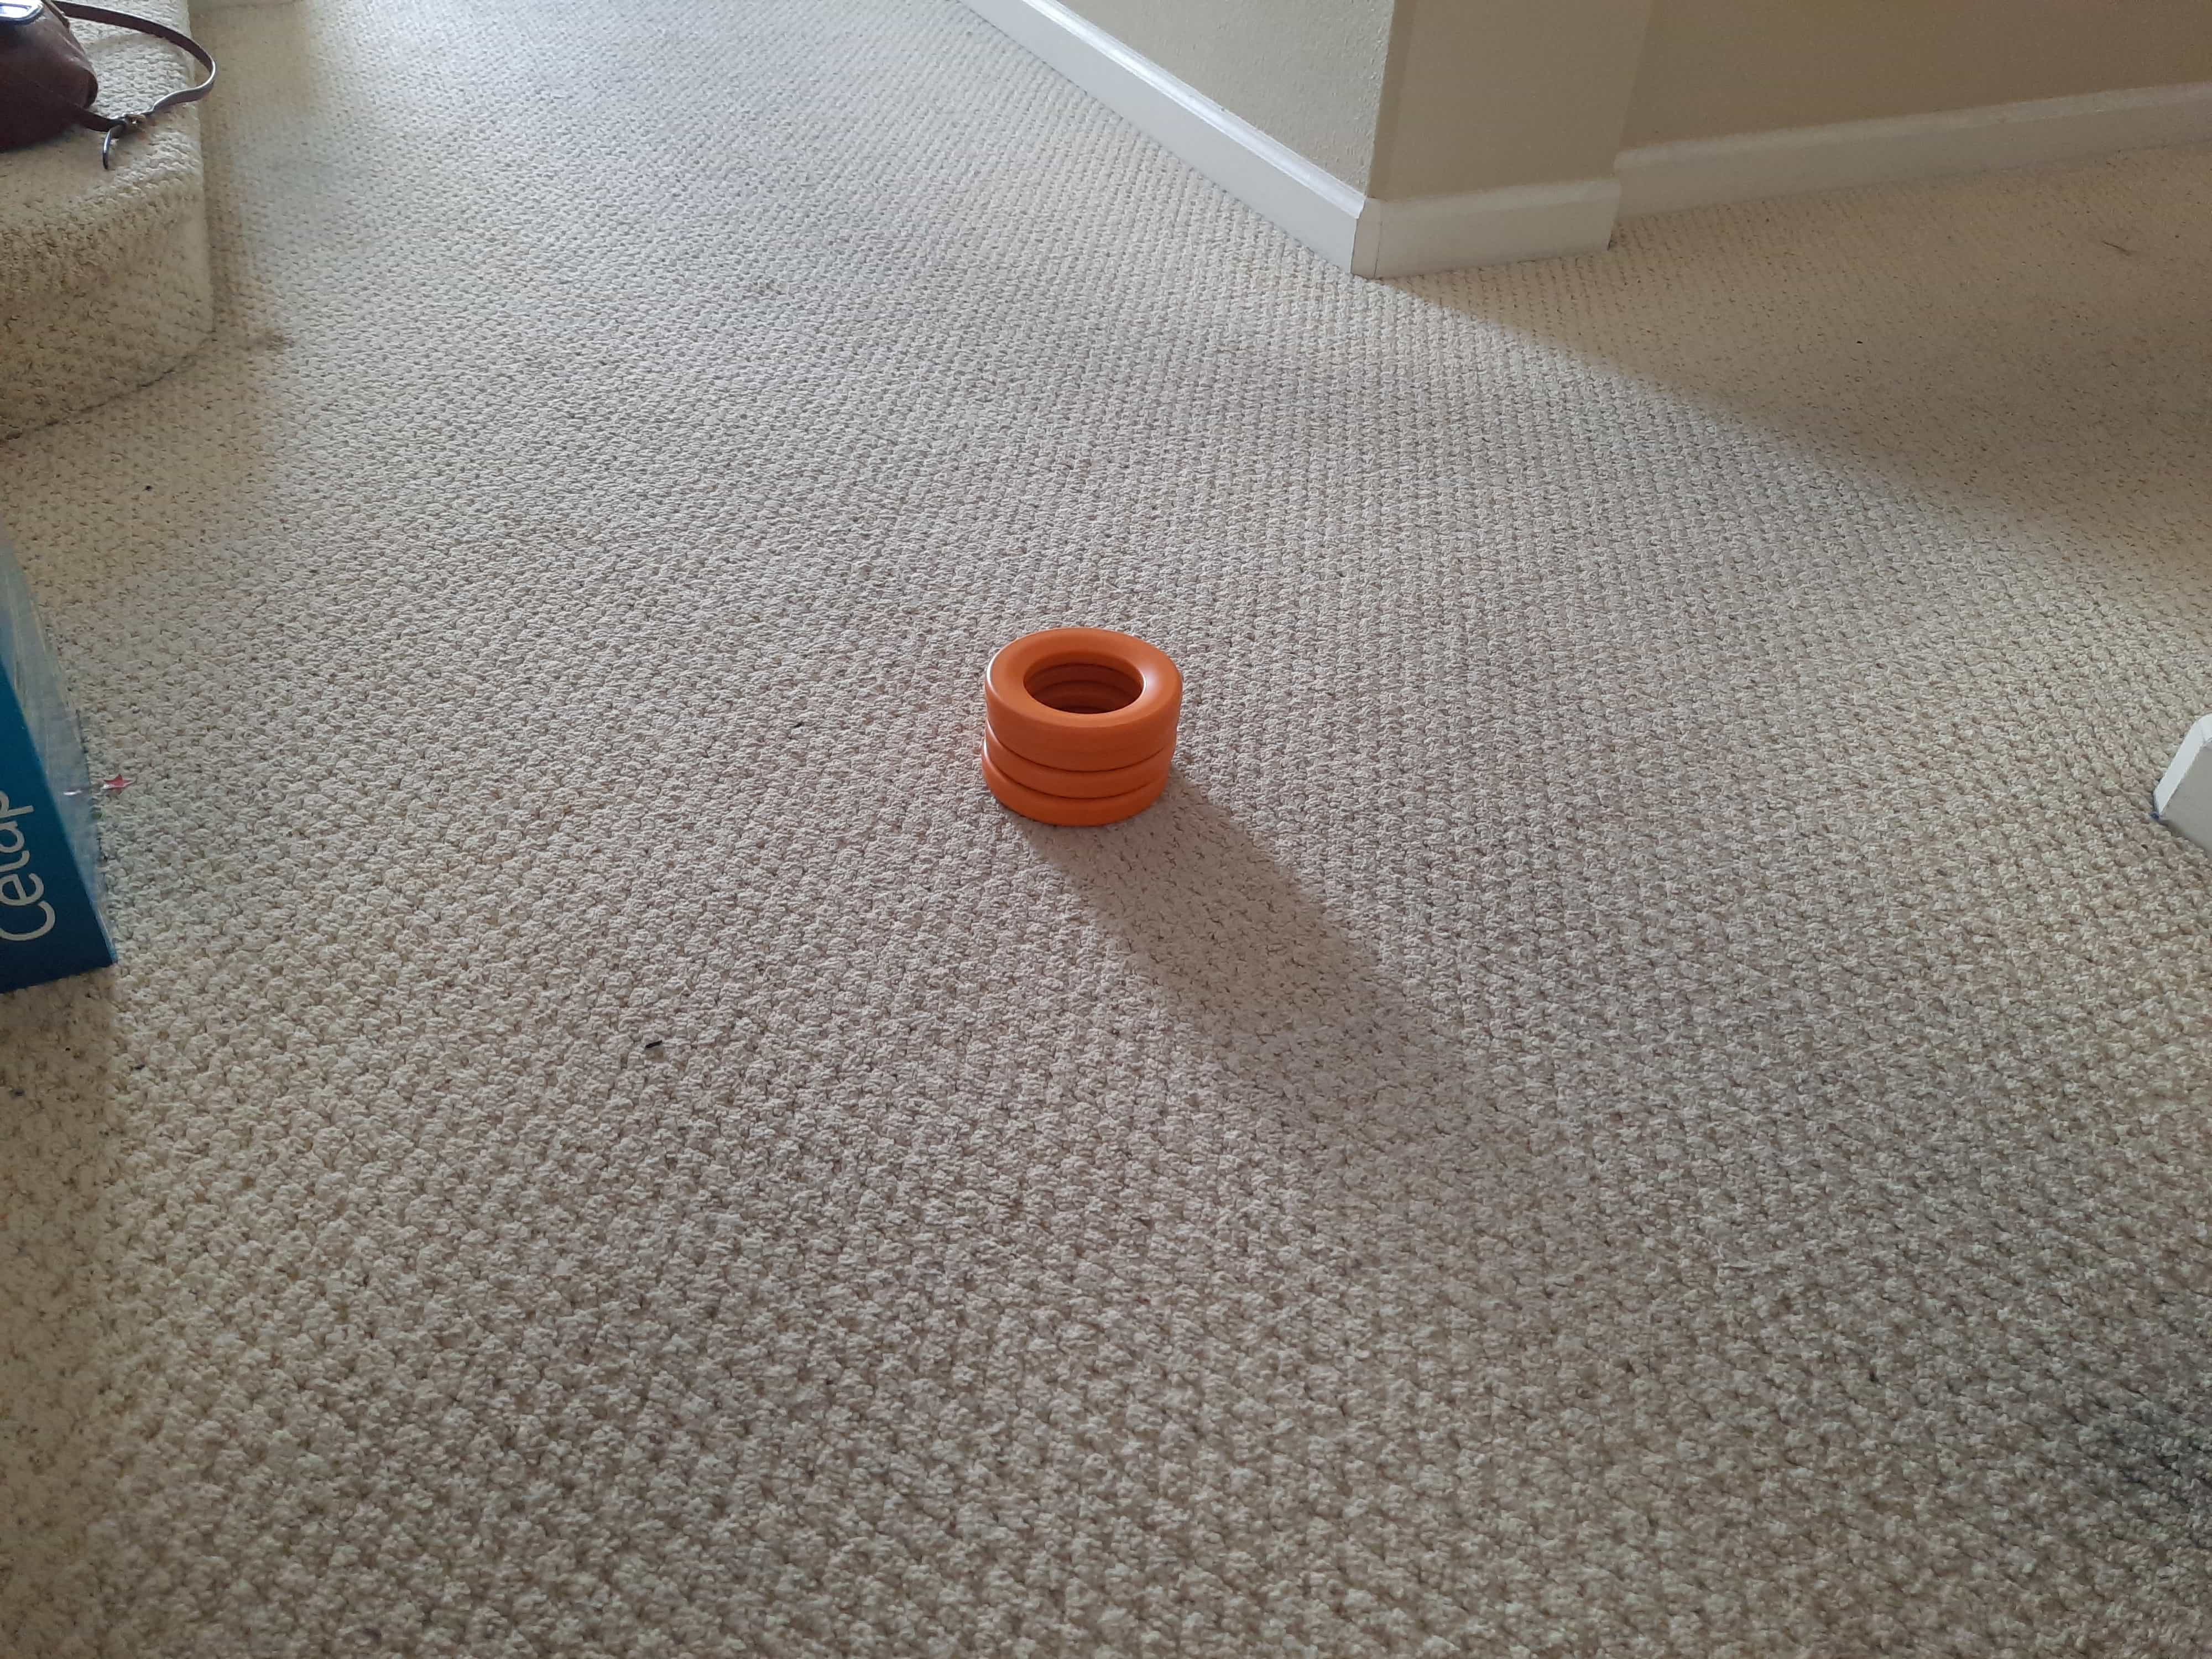FourStack: (989, 631, 1179, 833)
